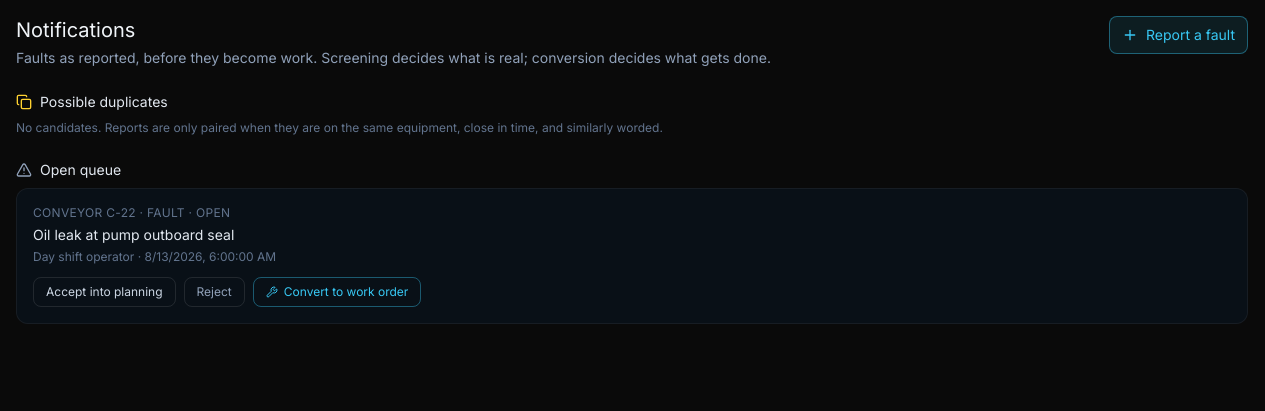
Test case: NotificationScreening › surfaces the database's own refusal sentence rather than a generic error
The image size is (1265, 411).
Click the button "Accept into planning" at (104, 292), box [33,277,176,307]
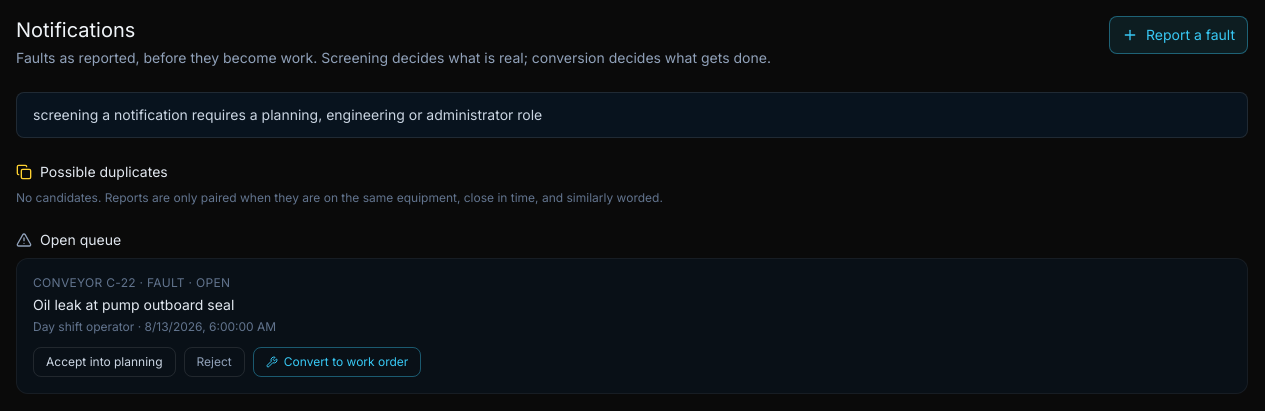
Now the text "requires a planning, engineering or administrator role" is shown, box [33,106,542,123]
